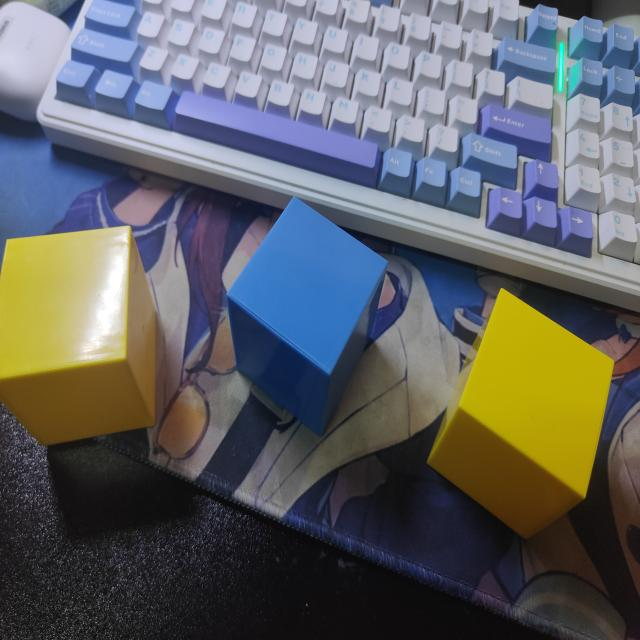blue: (225, 198, 391, 443)
yellow: (426, 285, 616, 543), (0, 225, 159, 450)
